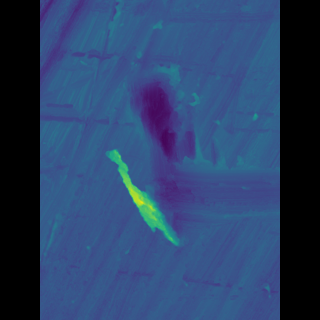Loch: (125, 49, 202, 252)
